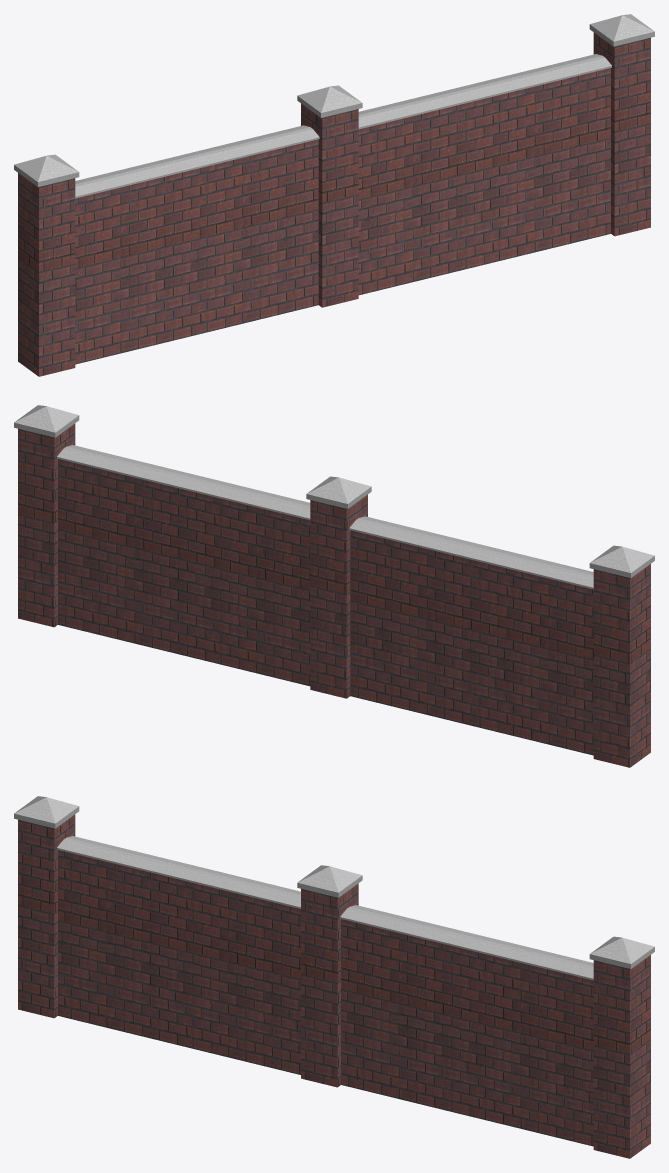
Rendered from weiqian2.fbx.
The picture shows the model from 3 angles, top to bottom: view 1: azimuth 30°, elevation 25°; view 2: azimuth 150°, elevation 25°; view 3: azimuth 330°, elevation 25°; orthographic projection.
Visible parts, largest first — view 1: 对象005, 对象003, Obj3d66-1112242-20-883, 对象004, 对象002, 对象001; view 2: 对象005, 对象003, Obj3d66-1112242-20-883, 对象004, 对象002, 对象001; view 3: 对象005, 对象003, Obj3d66-1112242-20-883, 对象004, 对象002, 对象001.
Boxes of the visible parts, x1=… form: 对象005: x1=358, y1=32, x2=650, y2=295; 对象003: x1=75, y1=103, x2=358, y2=364; Obj3d66-1112242-20-883: x1=18, y1=173, x2=75, y2=376; 对象004: x1=358, y1=14, x2=654, y2=129; 对象002: x1=75, y1=85, x2=362, y2=198; 对象001: x1=14, y1=154, x2=79, y2=186; 对象005: x1=18, y1=423, x2=310, y2=686; 对象003: x1=310, y1=494, x2=593, y2=755; Obj3d66-1112242-20-883: x1=593, y1=564, x2=650, y2=767; 对象004: x1=14, y1=405, x2=310, y2=520; 对象002: x1=306, y1=476, x2=593, y2=589; 对象001: x1=589, y1=545, x2=654, y2=577; 对象005: x1=341, y1=919, x2=650, y2=1158; 对象003: x1=58, y1=850, x2=358, y2=1087; Obj3d66-1112242-20-883: x1=18, y1=814, x2=75, y2=1018; 对象004: x1=340, y1=905, x2=654, y2=980; 对象002: x1=57, y1=836, x2=362, y2=908; 对象001: x1=14, y1=796, x2=79, y2=828.
Bounding box in the file's own units: 63.65 × 20.61 × 4.27.
2 materials, 2 textured.
